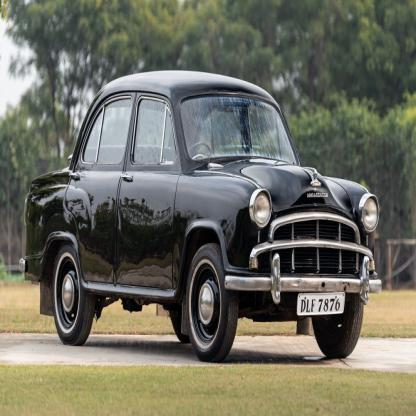car: (24, 63, 382, 372)
